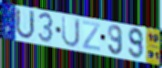3: (37, 12, 54, 46)
9: (127, 27, 145, 60), (107, 24, 124, 57)
U: (15, 6, 37, 41), (61, 15, 81, 49)
Z: (82, 20, 101, 53)
